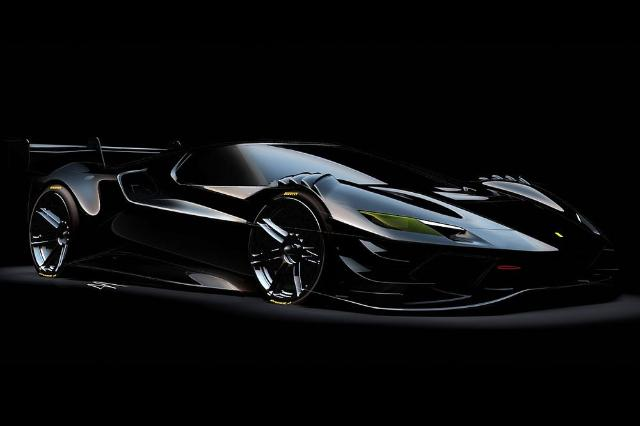ferrari: (3, 140, 619, 314)
